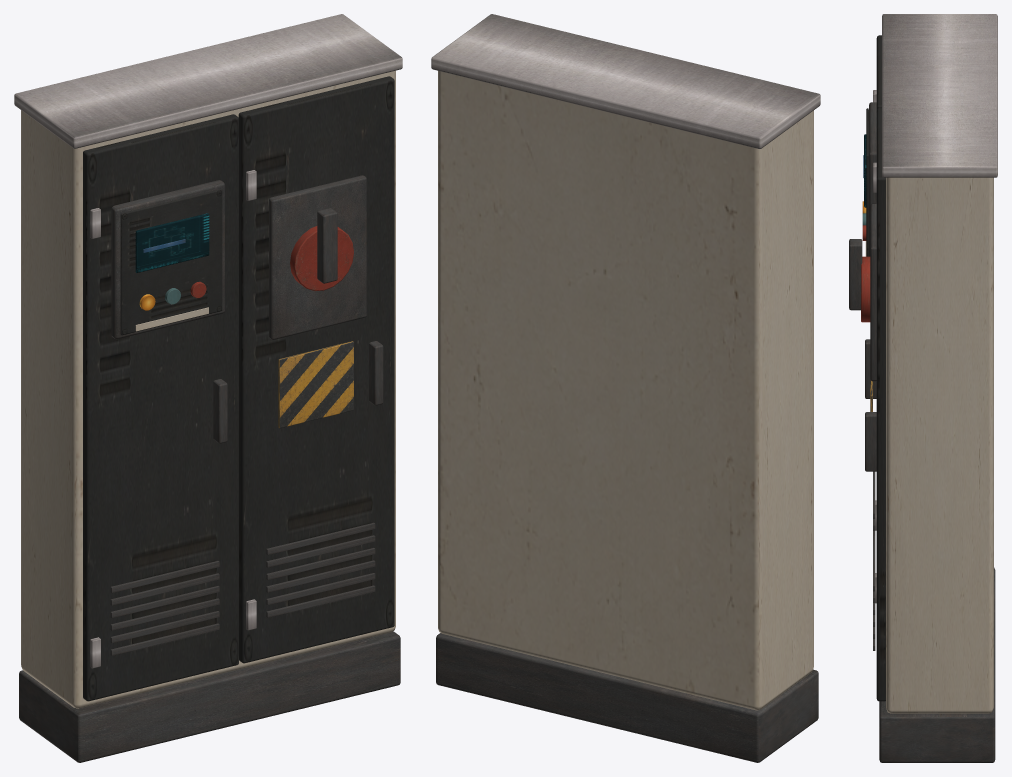
Rendered from SM_FacilityRooms_ElectricalCabinet.fbx.
The picture shows the model from 3 angles, left to right: view 1: azimuth 30°, elevation 25°; view 2: azimuth 150°, elevation 25°; view 3: azimuth 270°, elevation 25°; orthographic projection. The views are drawn at different scales.
Visible parts, largest first — view 1: SM_FacilityRooms_ElectricalCabinet; view 2: SM_FacilityRooms_ElectricalCabinet; view 3: SM_FacilityRooms_ElectricalCabinet.
Boxes of the visible parts, x1,y1,x2,y2 form: SM_FacilityRooms_ElectricalCabinet: (14,14,402,762); SM_FacilityRooms_ElectricalCabinet: (431,14,820,762); SM_FacilityRooms_ElectricalCabinet: (849,14,997,762).
Size of what is drawn, in the model's own units: 110 by 45 by 200.
